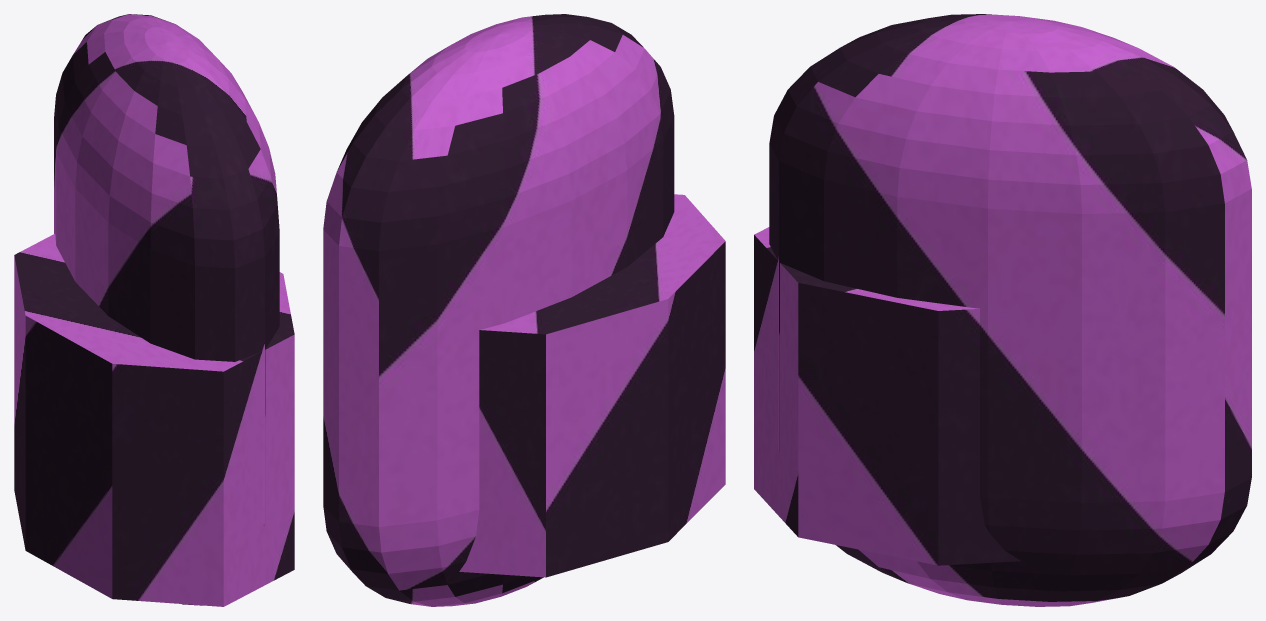
The picture shows the model from 3 angles, left to right: view 1: azimuth 30°, elevation 25°; view 2: azimuth 150°, elevation 25°; view 3: azimuth 270°, elevation 25°; orthographic projection. The views are drawn at different scales.
Visible parts, largest first — view 1: geometry_0; view 2: geometry_0; view 3: geometry_0.
Part boxes in pixels (x1,y1,x2,y2): geometry_0: [14, 14, 294, 606]; geometry_0: [323, 14, 725, 606]; geometry_0: [754, 14, 1251, 606].
Size of the model in its own units: 0.5392 by 1.13 by 0.8804.
Materials: 1 (1 with a texture image).
